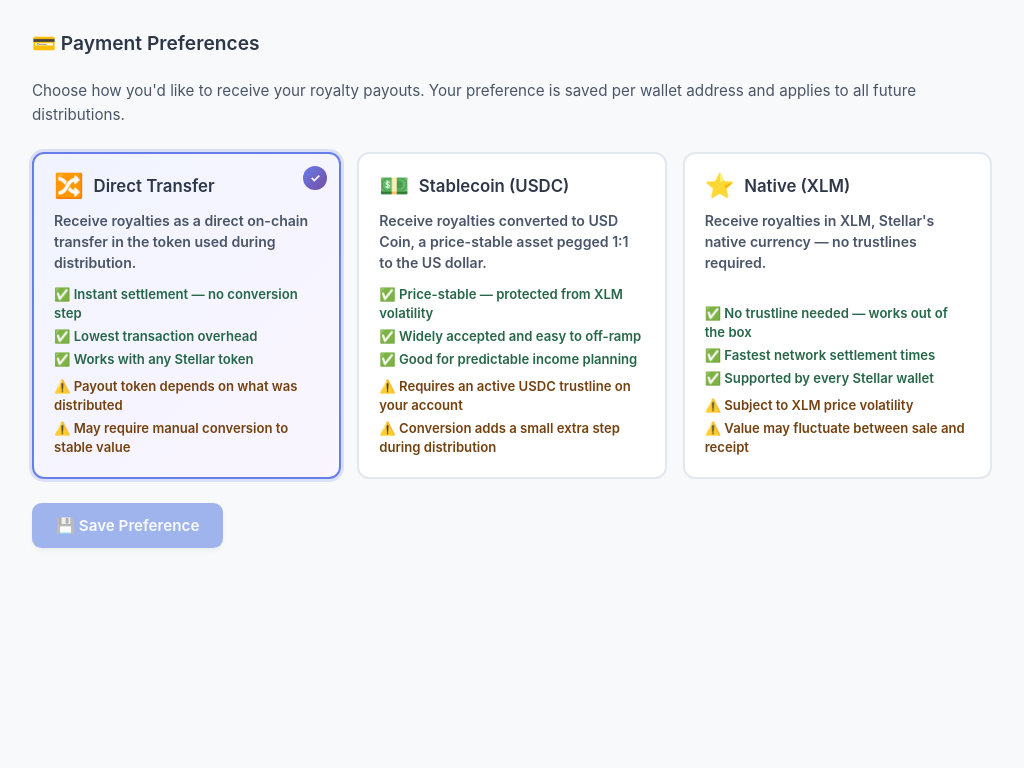
Scenario: PaymentPreferences optimistic save (#771) › confirms the new selection on a normal successful save
Click the radio button labelled "Stablecoin" at [494, 186], box [357, 152, 667, 479]
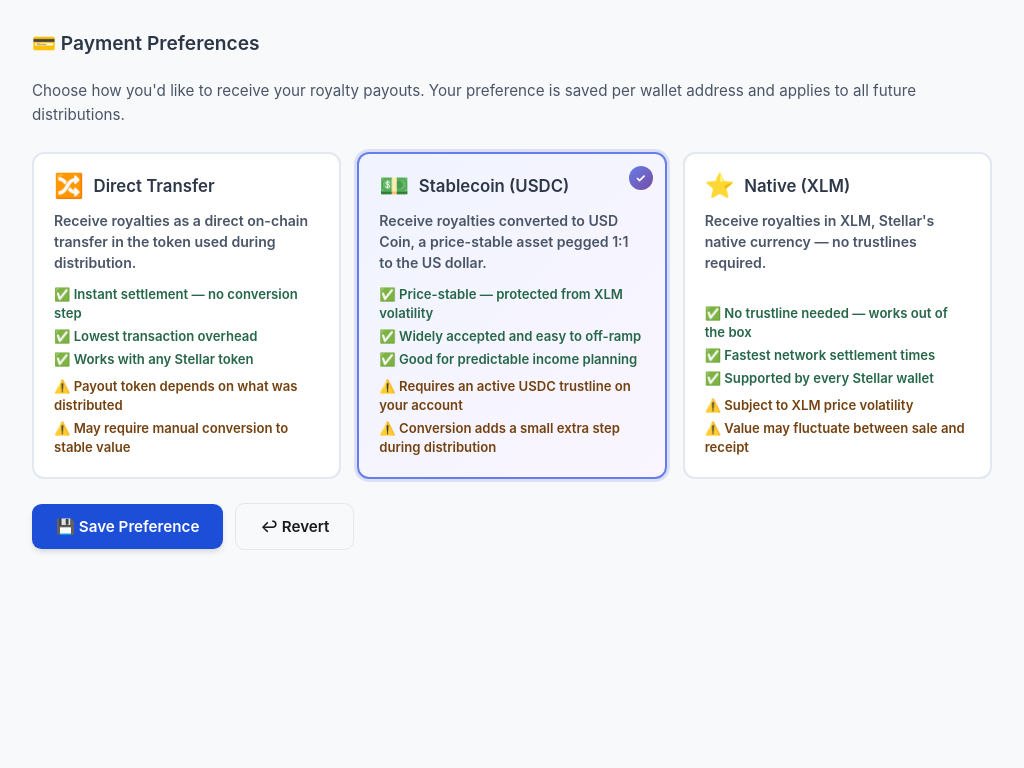
Click the button "💾 Save Preference" at [128, 526], box [32, 504, 223, 549]
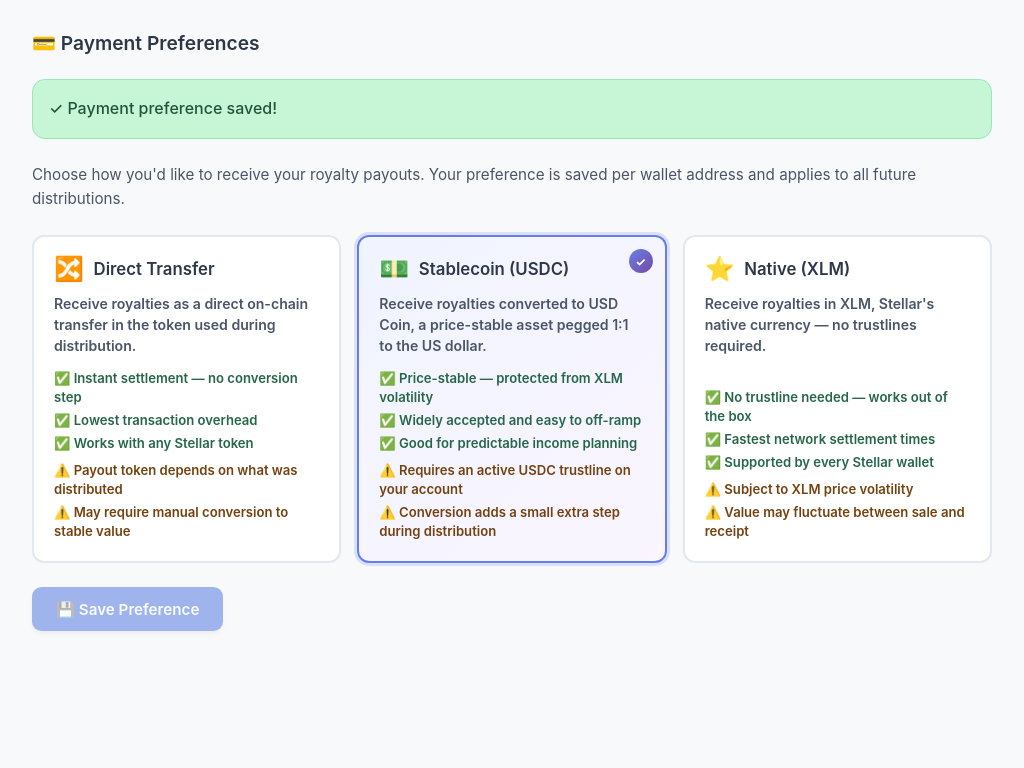
Expected: the message shows "saved", [49, 98, 277, 118]
